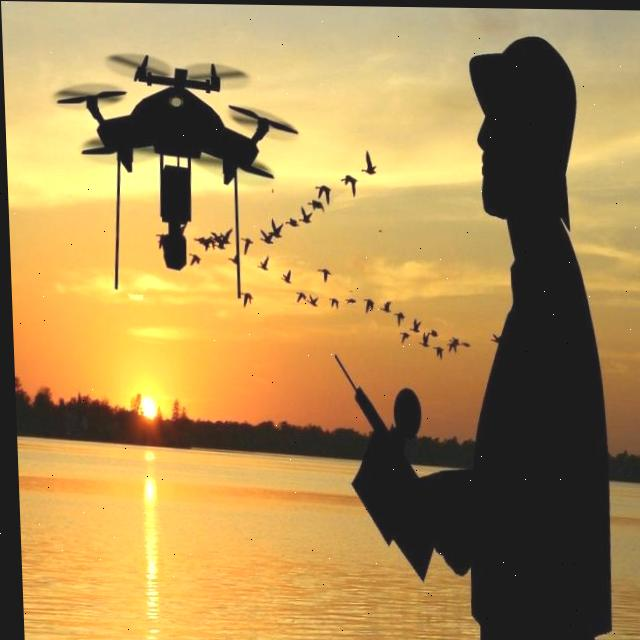drone: (56, 36, 287, 262)
